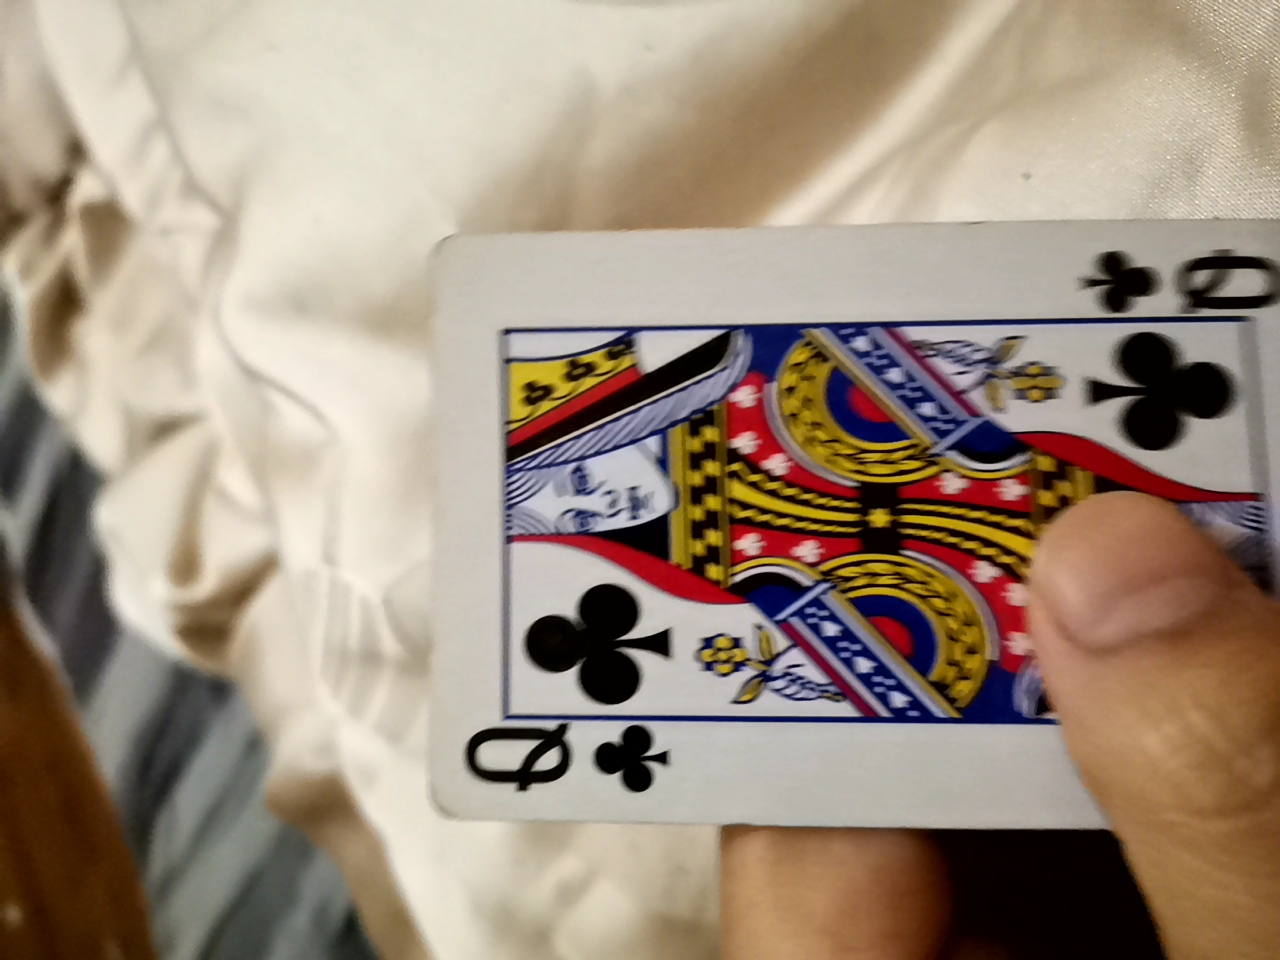mh q: (407, 210, 1237, 846)
